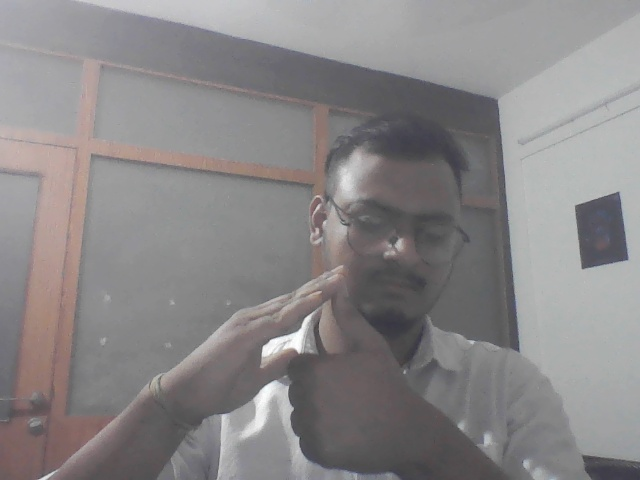I Feel You: (180, 261, 423, 477)
